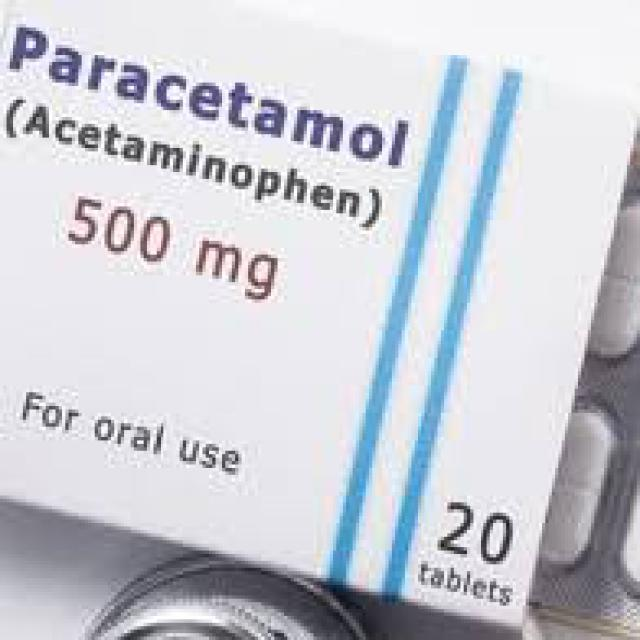drug-name: (5, 17, 413, 170)
